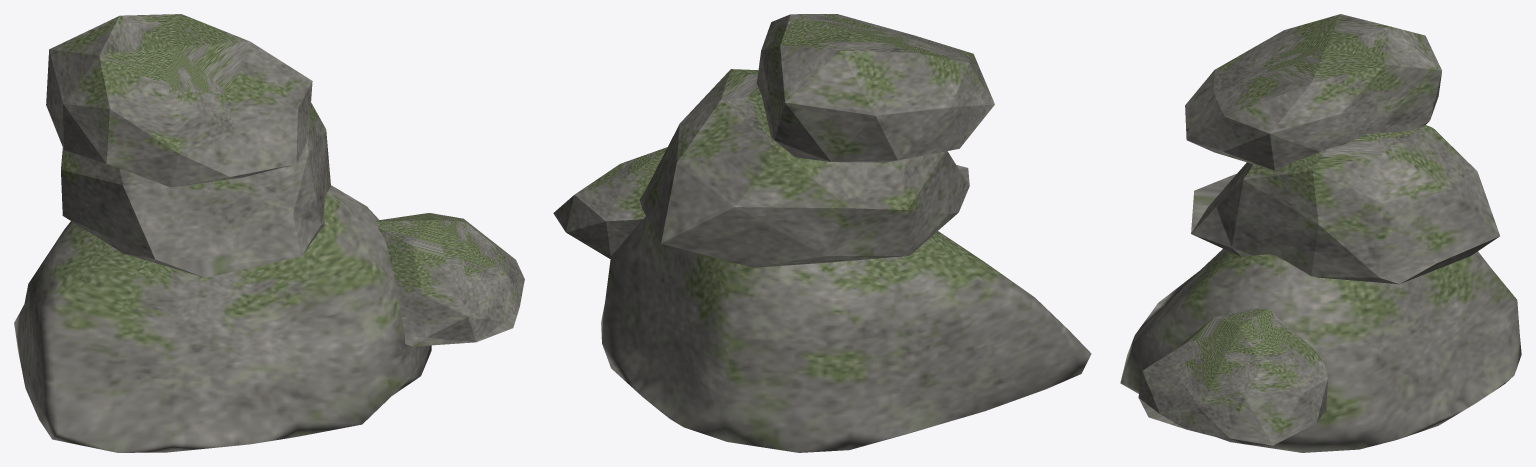
Rendered from rock_highlands_tor_a.glb.
The picture shows the model from 3 angles, left to right: view 1: azimuth 30°, elevation 25°; view 2: azimuth 150°, elevation 25°; view 3: azimuth 270°, elevation 25°; orthographic projection. The views are drawn at different scales.
Parts seen in each view (by area): view 1: rock_highlands_tor_a; view 2: rock_highlands_tor_a; view 3: rock_highlands_tor_a.
Boxes of the visible parts, x1,y1,x2,y2 form: rock_highlands_tor_a: (14,14,524,452); rock_highlands_tor_a: (553,14,1091,452); rock_highlands_tor_a: (1120,14,1521,452).
Bounding box in the file's own units: 2.93 × 1.9 × 2.22.
Materials: 1 (1 with a texture image).
